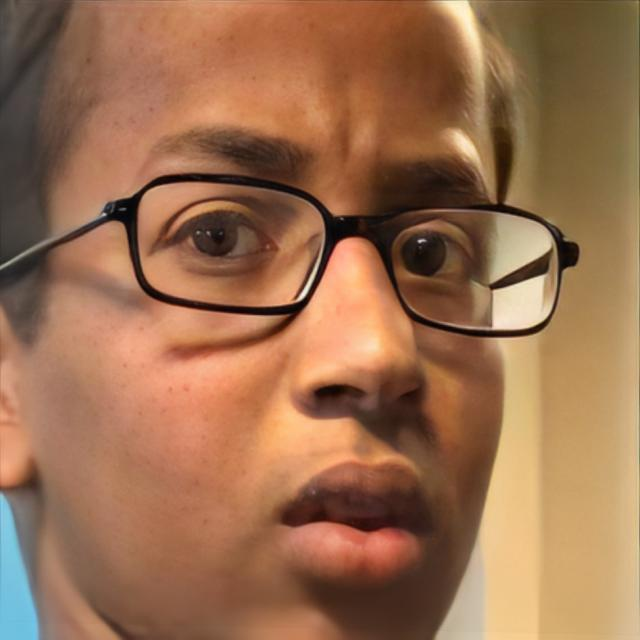fear: (37, 4, 507, 640)
